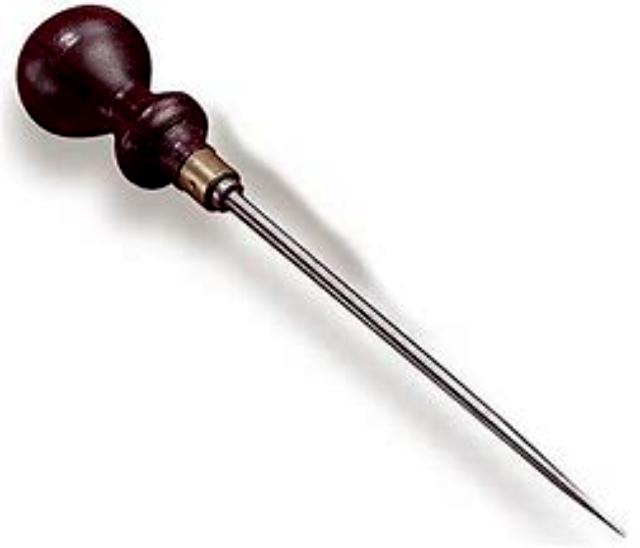ice pick: (18, 3, 624, 538)
